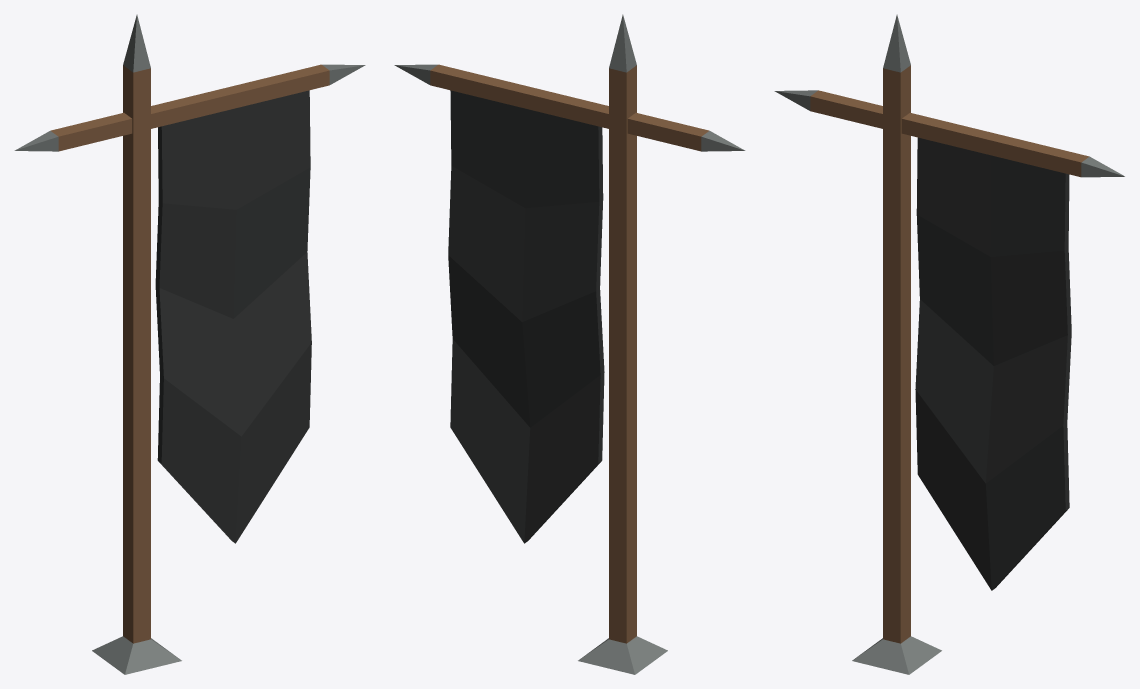
File: Banner_1_Black.fbx
3 views of the same model, side by side, from view 1: azimuth 30°, elevation 25°; view 2: azimuth 150°, elevation 25°; view 3: azimuth 330°, elevation 25° (orthographic).
Visible parts, largest first — view 1: Banner_1_Black_Part_3, Banner_1_Black_Part_1, Banner_1_Black_Part_2; view 2: Banner_1_Black_Part_3, Banner_1_Black_Part_1, Banner_1_Black_Part_2; view 3: Banner_1_Black_Part_3, Banner_1_Black_Part_1, Banner_1_Black_Part_2.
Boxes of the visible parts, x1,y1,x2,y2 form: Banner_1_Black_Part_3: (155, 90, 311, 543); Banner_1_Black_Part_1: (50, 64, 329, 643); Banner_1_Black_Part_2: (14, 14, 365, 674); Banner_1_Black_Part_3: (448, 90, 604, 543); Banner_1_Black_Part_1: (430, 64, 709, 643); Banner_1_Black_Part_2: (394, 14, 745, 674); Banner_1_Black_Part_3: (915, 137, 1071, 590); Banner_1_Black_Part_1: (810, 65, 1089, 643); Banner_1_Black_Part_2: (774, 14, 1124, 674).
Size of the model in its own units: 172 by 300 by 28.14.
